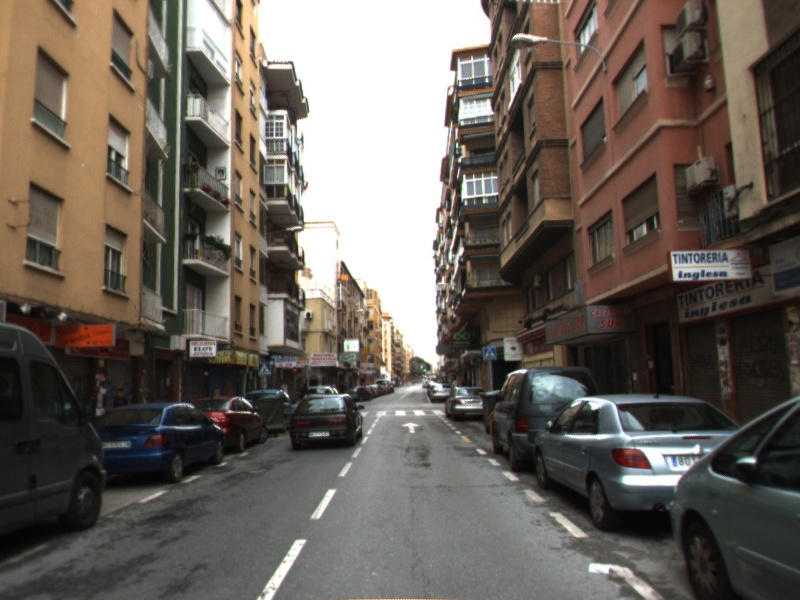STRAIGHT: (399, 421, 422, 435)
